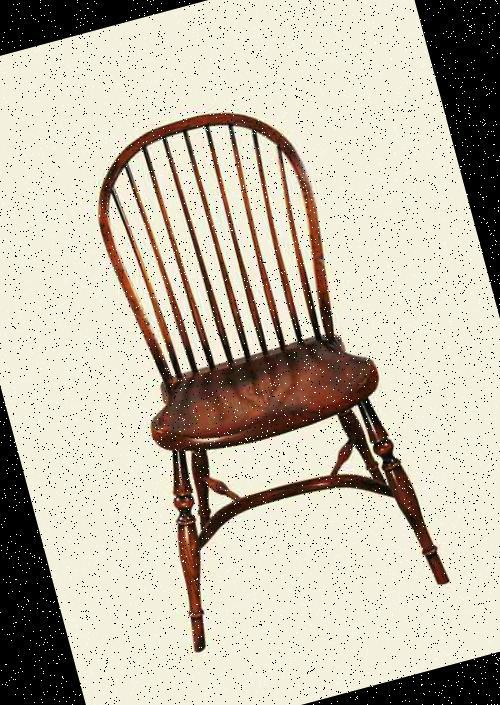Silla: (54, 88, 450, 651)
